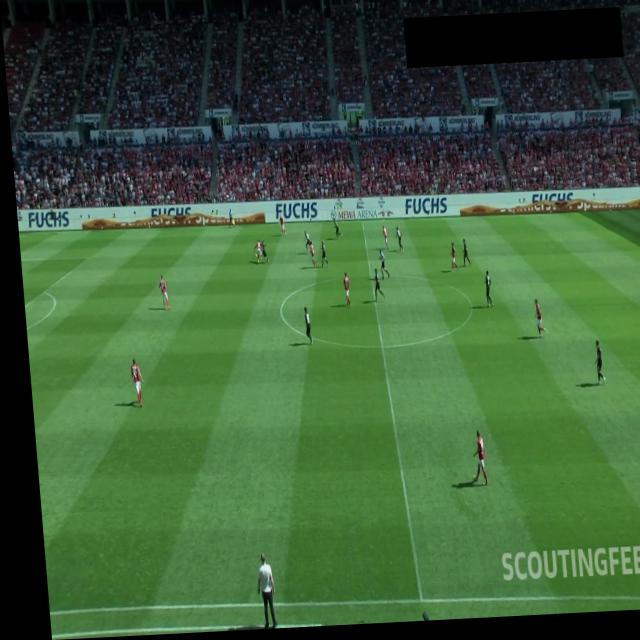player: (461, 434, 481, 491), (124, 359, 139, 409), (586, 346, 599, 392), (528, 303, 540, 343), (153, 276, 165, 312), (368, 271, 380, 306), (298, 309, 308, 348), (478, 274, 488, 313), (337, 275, 346, 311), (457, 244, 467, 272), (314, 243, 324, 271), (445, 246, 454, 277), (249, 242, 260, 267), (329, 220, 338, 244), (304, 244, 312, 270), (256, 244, 265, 266), (274, 217, 283, 239), (391, 229, 398, 256), (378, 229, 385, 254), (300, 233, 307, 255)
referee: (373, 251, 385, 283), (224, 209, 231, 231)
